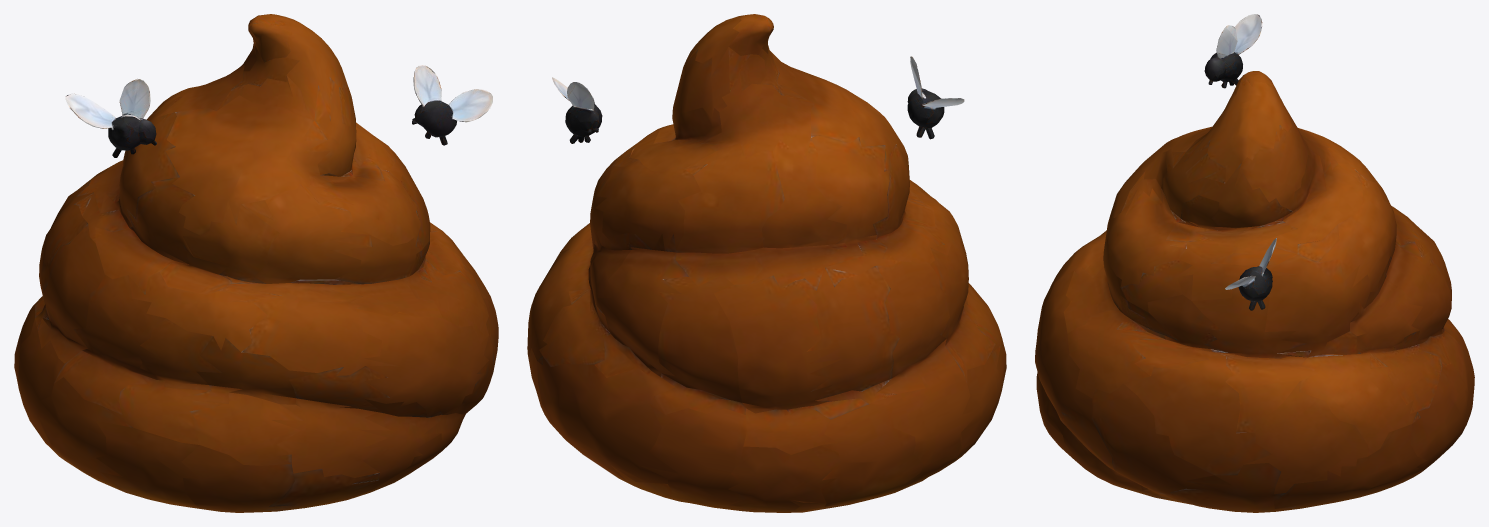
The model's file is poop.glb.
3 renders of one model, left to right at view 1: azimuth 30°, elevation 25°; view 2: azimuth 150°, elevation 25°; view 3: azimuth 270°, elevation 25°, orthographic. The views are drawn at different scales.
Bounding box in the file's own units: 1.9 × 1.76 × 1.82.
1 material, 1 textured.
